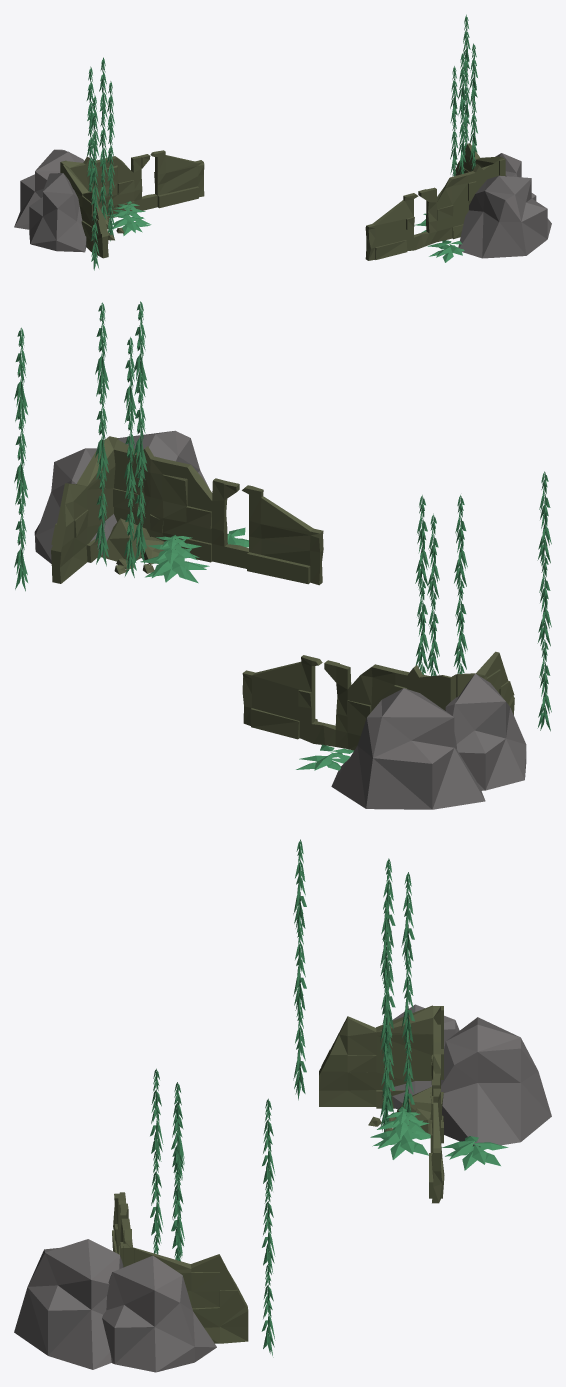
The model's file is ruines.fbx.
3 views of the same model, one above another, from view 1: azimuth 30°, elevation 25°; view 2: azimuth 150°, elevation 25°; view 3: azimuth 270°, elevation 25° (orthographic). The views are drawn at different scales.
Parts seen in each view (by area): view 1: plant16; view 2: plant16; view 3: plant16.
Boxes of the visible parts, x1,y1,x2,y2 form: plant16: [14, 14, 551, 270]; plant16: [14, 301, 551, 809]; plant16: [14, 839, 551, 1372].
Bounding box in the file's own units: 24.83 × 10.25 × 18.9.
